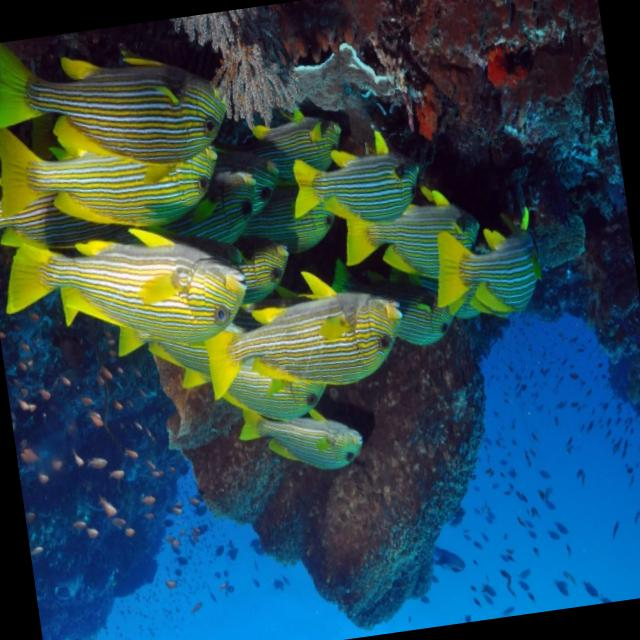RibbonedSweetlips: (0, 12, 234, 205), (0, 212, 253, 370), (0, 99, 225, 245), (194, 258, 411, 405), (283, 124, 425, 237), (337, 183, 484, 289), (425, 204, 544, 320), (234, 392, 366, 482), (235, 101, 348, 190)
